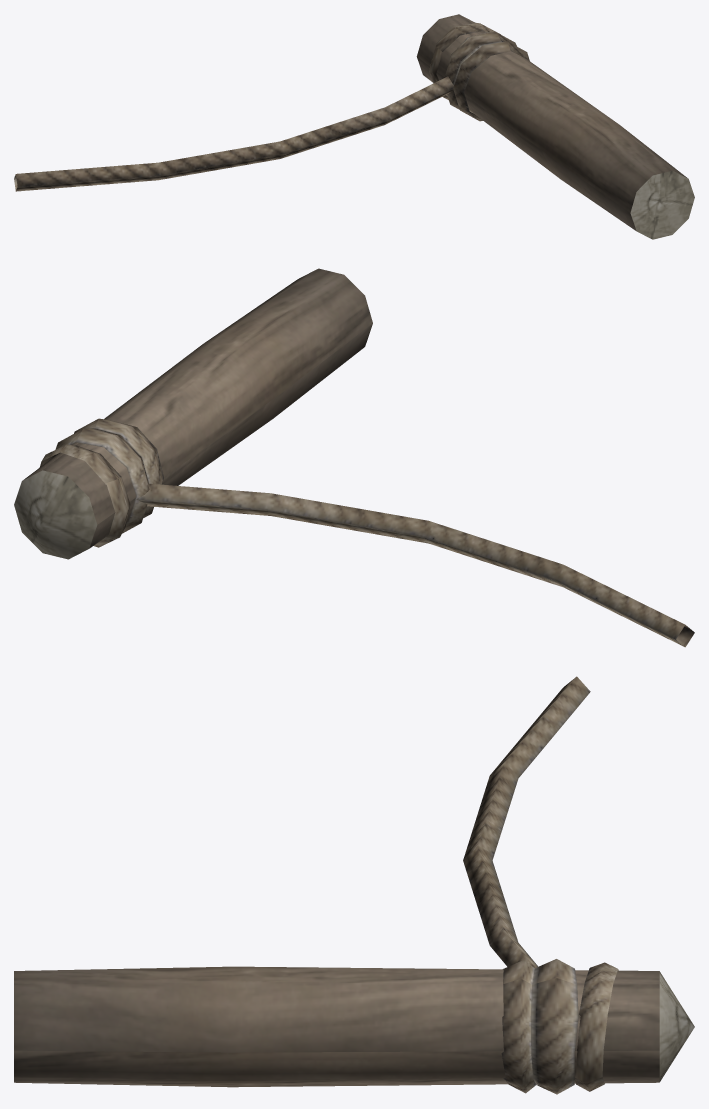
Rendered from Fence_Type_01_A_Right.fbx.
3 views of the same model, one above another, from view 1: azimuth 30°, elevation 25°; view 2: azimuth 150°, elevation 25°; view 3: azimuth 270°, elevation 25° (orthographic). The views are drawn at different scales.
Parts seen in each view (by area): view 1: Fence_Type_01_Right_A; view 2: Fence_Type_01_Right_A; view 3: Fence_Type_01_Right_A.
Boxes of the visible parts, x1,y1,x2,y2 form: Fence_Type_01_Right_A: [14, 14, 694, 239]; Fence_Type_01_Right_A: [14, 268, 694, 647]; Fence_Type_01_Right_A: [14, 676, 694, 1094].
Bounding box in the file's own units: 1.97 × 0.2942 × 1.53.
